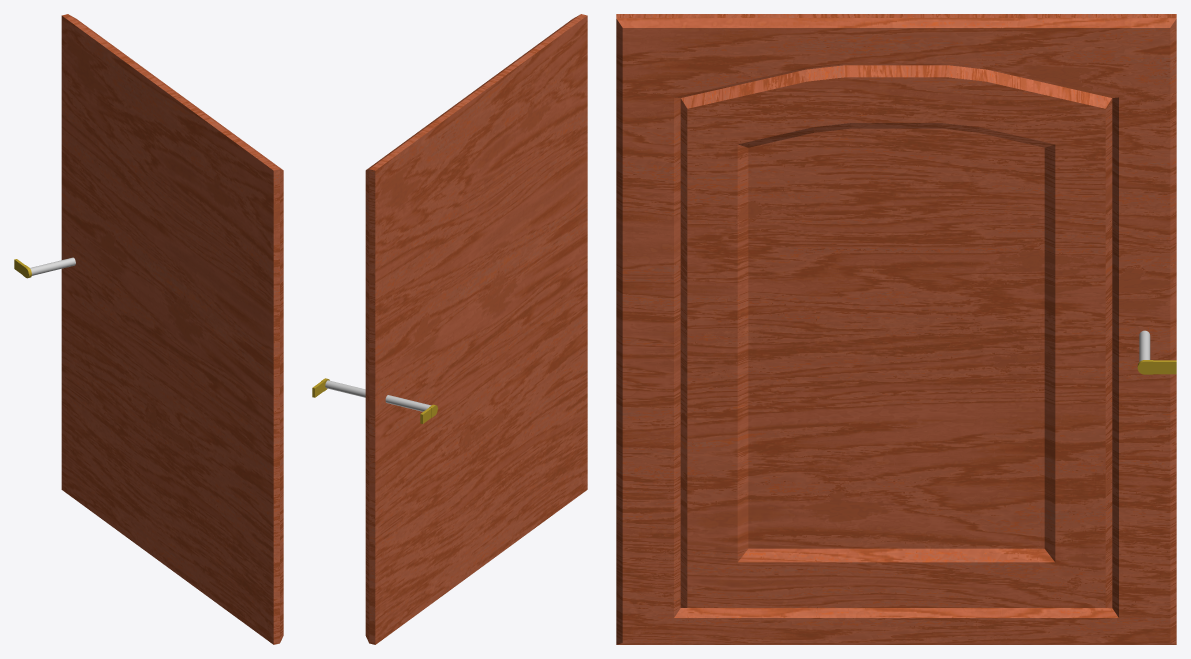
Rendered from Cabinet_372fd248.obj.
3 views of the same model, side by side, from view 1: azimuth 30°, elevation 25°; view 2: azimuth 150°, elevation 25°; view 3: azimuth 270°, elevation 25° (orthographic). The views are drawn at different scales.
Parts seen in each view (by area): view 1: Mesh_01_322f40b1, handle_2_178mm_01_76d13a35; view 2: Mesh_01_322f40b1, handle_2_178mm_01_76d13a35; view 3: Mesh_01_322f40b1, handle_2_178mm_01_76d13a35.
Part boxes in pixels (x1=…): Mesh_01_322f40b1: x1=61, y1=14, x2=283, y2=644; handle_2_178mm_01_76d13a35: x1=14, y1=257, x2=75, y2=278; Mesh_01_322f40b1: x1=365, y1=14, x2=587, y2=644; handle_2_178mm_01_76d13a35: x1=312, y1=378, x2=437, y2=423; Mesh_01_322f40b1: x1=616, y1=14, x2=1176, y2=644; handle_2_178mm_01_76d13a35: x1=1137, y1=330, x2=1176, y2=374.
Size of the model in its own units: 0.178 by 0.728 by 0.59.
